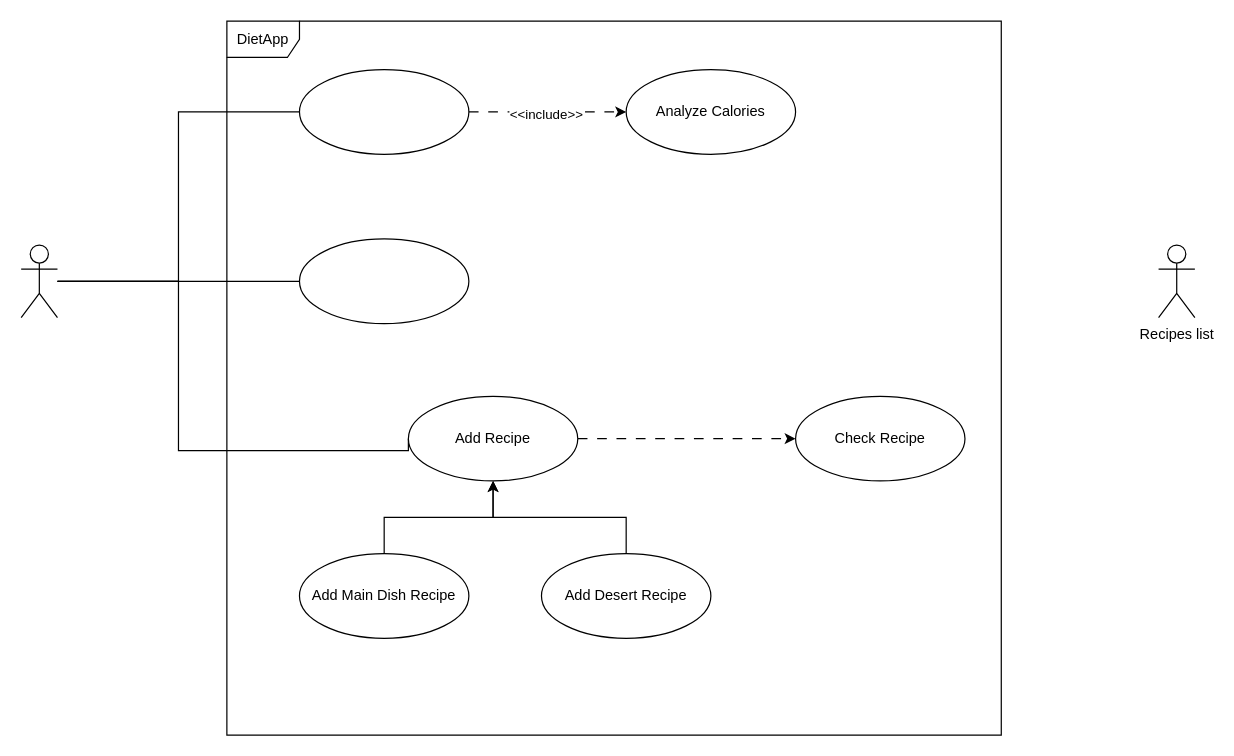
This 1234x756 diagram has some shape labels left out. The shapes that lost their labels are listed below. From the top down, each one's centre as x and y in pixels, then its label:
At [383,111]: "Input Information".
At [38,281]: "Actor".
At [383,281]: "Get meal".
